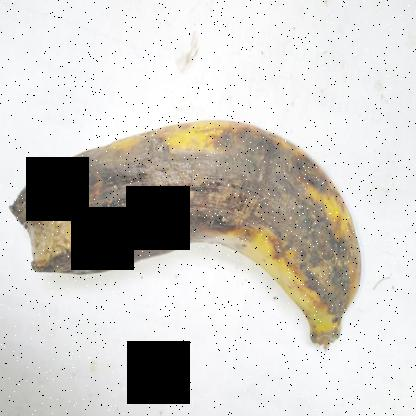rotten: (10, 103, 376, 315)
